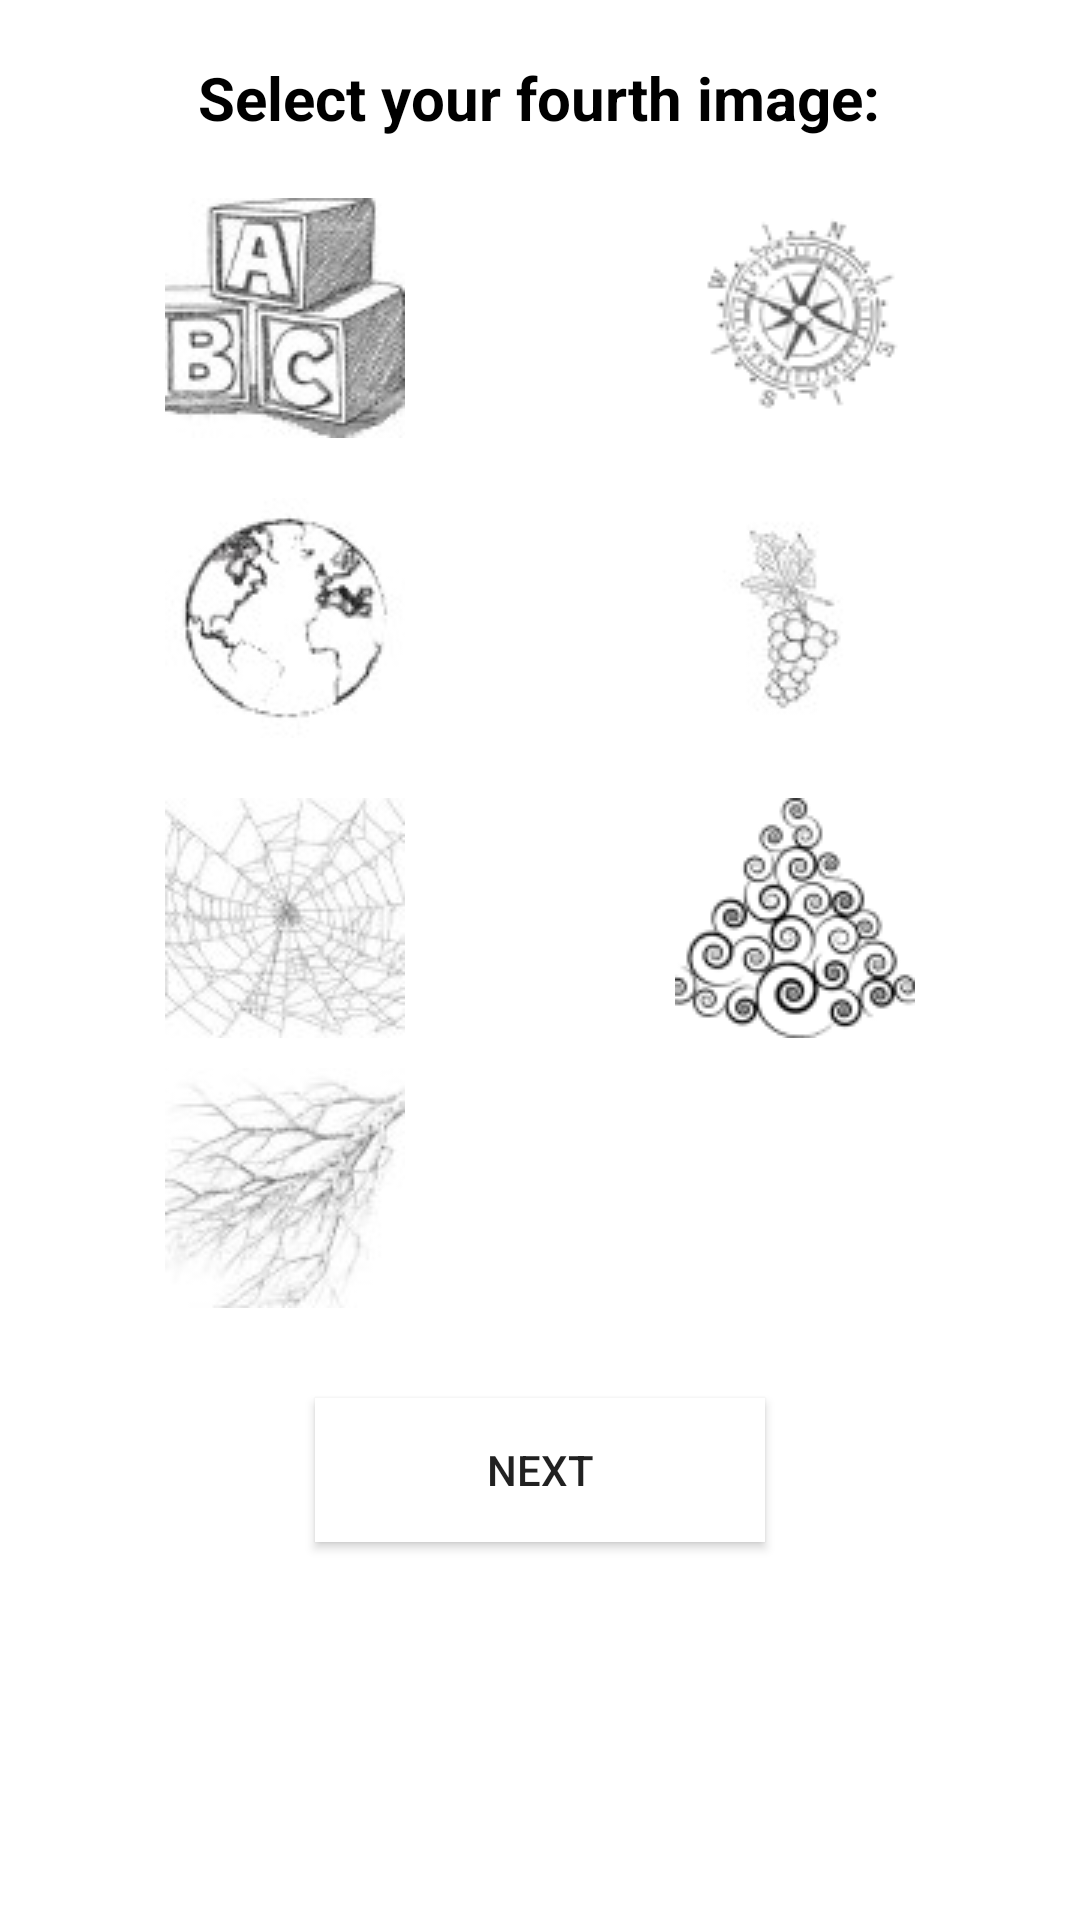

Icons on this 1080w x 1920h Android screen, each with the point to tap as point (x, y):
branch: point (285, 1196)
